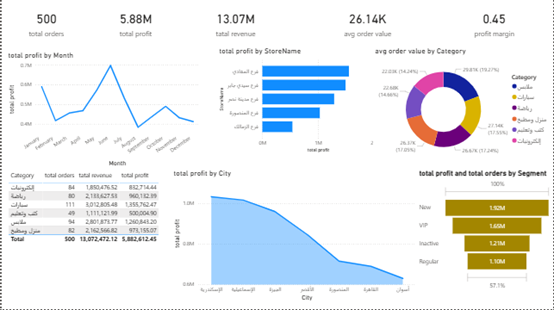

Layout of this report page (visuals, bound fields, positions):
{"tool":"powerbi","page":{"name":"Page 1","canvas":[1280,720],"ordinal":0},"visuals":[{"type":"card","fields":{"Values":["fact_Sales.total orders"]},"box":[10.1,0,187.2,109.4],"z":0},{"type":"card","fields":{"Values":["fact_Sales.total profit"]},"box":[208.8,0,205.9,109.4],"z":1},{"type":"card","fields":{"Values":["fact_Sales.tatal revenue"]},"box":[424.8,0,237.6,109.4],"z":2},{"type":"card","fields":{"Values":["fact_Sales.profit margin"]},"box":[1005.1,0,275,109.4],"z":3},{"type":"card","fields":{"Values":["fact_Sales.avg order value"]},"box":[694.1,0,311,109.4],"z":4},{"type":"lineChart","fields":{"Category":["fact_Sales.OrderDate.Variation.Date Hierarchy.Month"],"Y":["fact_Sales.total profit"]},"box":[10.1,119.5,452.2,273.6],"z":5},{"type":"barChart","fields":{"Y":["fact_Sales.total profit"],"Category":["dim_Stores.StoreName"]},"box":[499.7,109.4,378.7,250.6],"z":6},{"type":"donutChart","fields":{"Category":["dim_Products.Category"],"Y":["fact_Sales.avg order value"]},"box":[862.6,109.4,417.6,273.6],"z":7},{"type":"tableEx","fields":{"Values":["dim_Products.Category","fact_Sales.total orders","fact_Sales.tatal revenue","fact_Sales.total profit"]},"box":[10.1,393.1,367.2,187.2],"z":8},{"type":"areaChart","fields":{"Category":["dim_Customers.City"],"Y":["fact_Sales.total profit"]},"box":[393.1,393.1,571.7,311],"z":9},{"type":"funnel","fields":{"Category":["dim_Customers.Segment"],"Y":["fact_Sales.total profit"]},"box":[964.8,393.1,315.4,286.6],"z":10}]}

Visuals, with their boxes in screenshot pixels (x1, y1, x2, y2), scaled from the page's 1280x720 canvas onto the 554x310 screenshot:
card - fact_Sales.total orders: box=[4, 0, 85, 47]
card - fact_Sales.total profit: box=[90, 0, 179, 47]
card - fact_Sales.tatal revenue: box=[184, 0, 287, 47]
card - fact_Sales.profit margin: box=[435, 0, 553, 47]
card - fact_Sales.avg order value: box=[300, 0, 435, 47]
lineChart - fact_Sales.OrderDate.Variation.Date Hierarchy.Month x fact_Sales.total profit: box=[4, 51, 200, 169]
barChart - fact_Sales.total profit x dim_Stores.StoreName: box=[216, 47, 380, 155]
donutChart - dim_Products.Category x fact_Sales.avg order value: box=[373, 47, 553, 165]
tableEx - dim_Products.Category x fact_Sales.total orders: box=[4, 169, 163, 250]
areaChart - dim_Customers.City x fact_Sales.total profit: box=[170, 169, 418, 303]
funnel - dim_Customers.Segment x fact_Sales.total profit: box=[418, 169, 553, 293]
